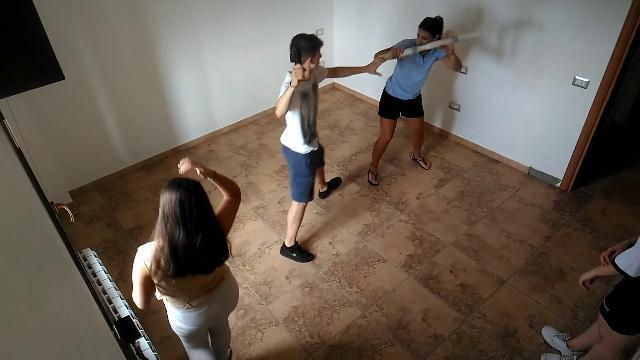non-violence: (128, 156, 244, 358), (541, 235, 640, 358)
violence: (274, 15, 480, 265)
weapon: (290, 45, 302, 65)
